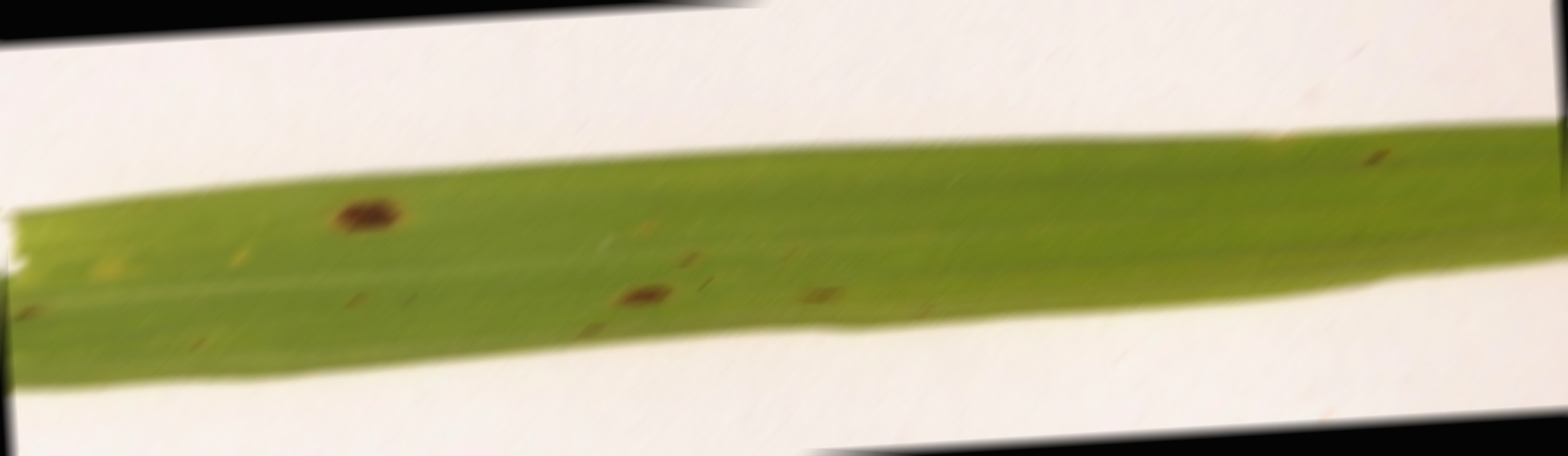Bacterial_Leaf_Blight: (332, 180, 413, 241), (5, 287, 81, 343), (768, 267, 859, 309), (608, 264, 672, 320), (1352, 130, 1404, 171)
